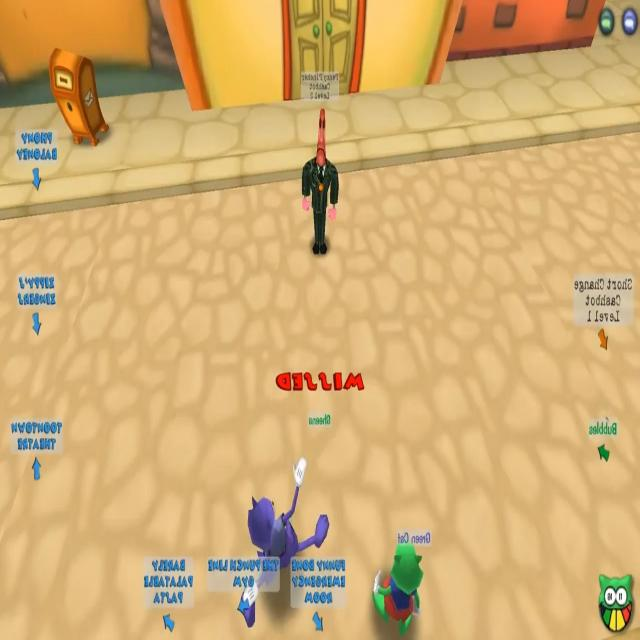pennypincher: (300, 111, 338, 257)
